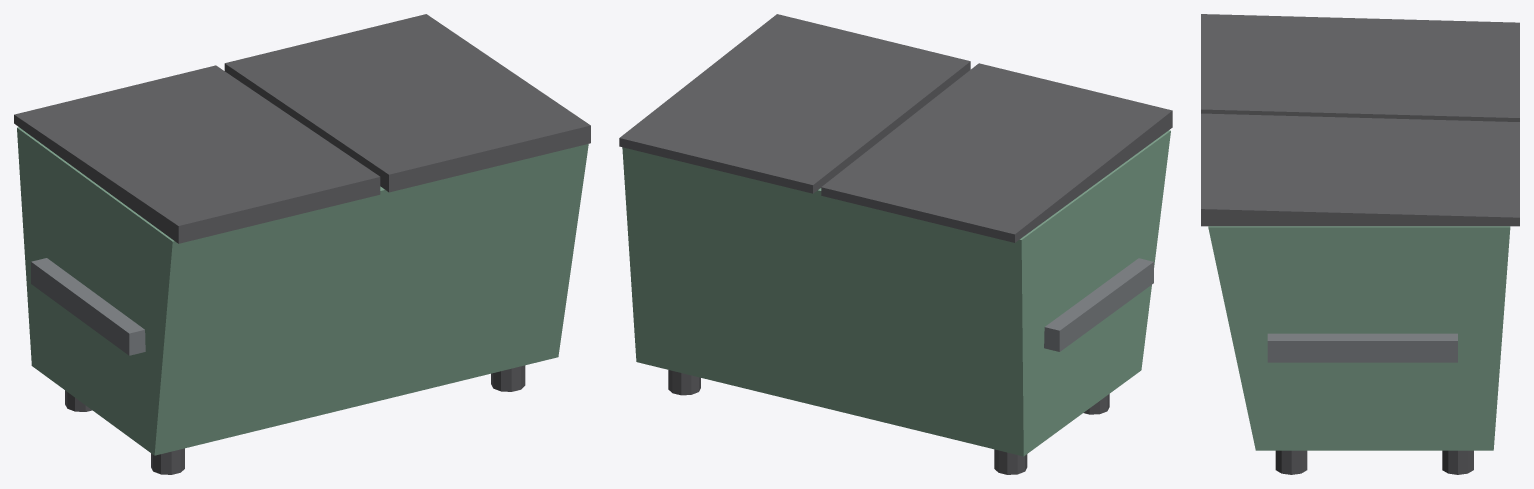
Rendered from dumpster.glb.
The picture shows the model from 3 angles, left to right: view 1: azimuth 30°, elevation 25°; view 2: azimuth 150°, elevation 25°; view 3: azimuth 270°, elevation 25°; orthographic projection. The views are drawn at different scales.
Parts seen in each view (by area): view 1: dumpster_dumpster, dumpster_dark, dumpster_steel_d, dumpster_rubber; view 2: dumpster_dumpster, dumpster_dark, dumpster_steel_d, dumpster_rubber; view 3: dumpster_dark, dumpster_dumpster, dumpster_steel_d, dumpster_rubber.
Part boxes in pixels (box(x1,y1,x2,y2)): dumpster_dumpster: box(17, 127, 588, 455); dumpster_dark: box(14, 14, 590, 243); dumpster_steel_d: box(31, 258, 145, 355); dumpster_rubber: box(65, 365, 525, 474); dumpster_dumpster: box(622, 130, 1170, 456); dumpster_dark: box(619, 14, 1172, 242); dumpster_steel_d: box(1044, 258, 1153, 351); dumpster_rubber: box(668, 370, 1109, 474); dumpster_dark: box(1201, 14, 1519, 226); dumpster_dumpster: box(1208, 226, 1510, 450); dumpster_steel_d: box(1267, 333, 1457, 362); dumpster_rubber: box(1275, 450, 1473, 474).
Size of the model in its own units: 2.08 by 1.28 by 1.34.
